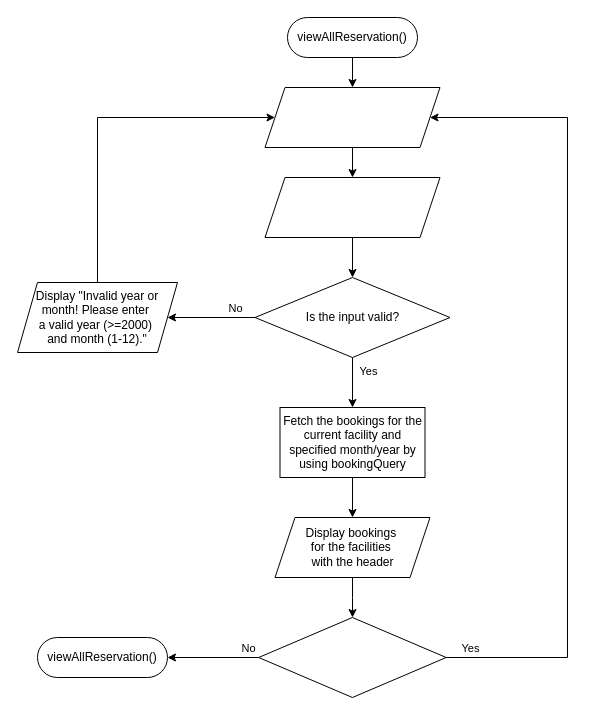
Some shapes in this 593 by 715 pixel diagram are drawn without their labels. The centre of each missing label's shape, as x and y in pixels:
Do you want to view bookings for another month or year?: [352,657]
Input the month in (MM) format: [352,207]
Input the year in (YYYY) format: [352,117]
